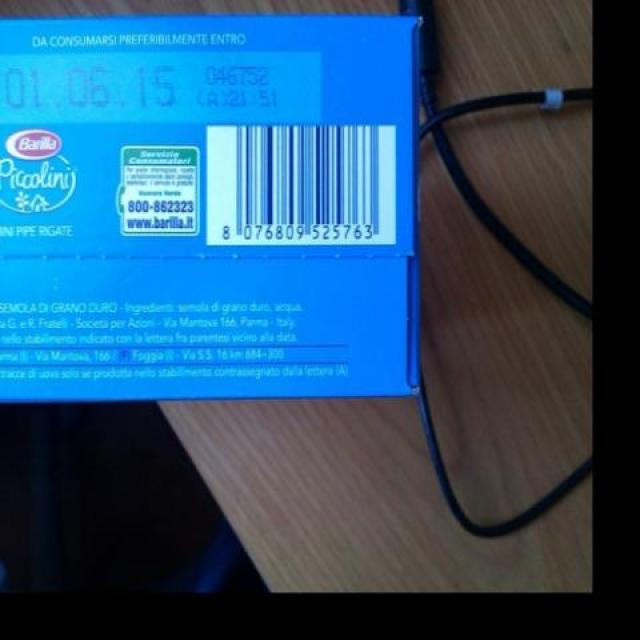Barcode: (208, 125, 392, 244)
